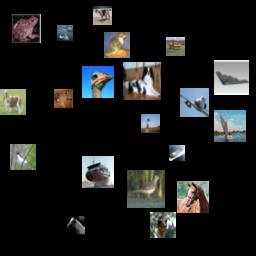airplane: (214, 60, 249, 95), (180, 88, 209, 117), (166, 37, 185, 56), (57, 25, 73, 41)
bird: (127, 170, 165, 208), (82, 66, 114, 98), (10, 144, 36, 170), (150, 212, 176, 238), (141, 114, 160, 133)
cat: (104, 32, 130, 58), (54, 89, 73, 108)
dog: (123, 62, 161, 100), (0, 89, 26, 115)
frog: (12, 14, 41, 43)
ship: (82, 156, 114, 188), (214, 110, 246, 142), (169, 145, 185, 161)
